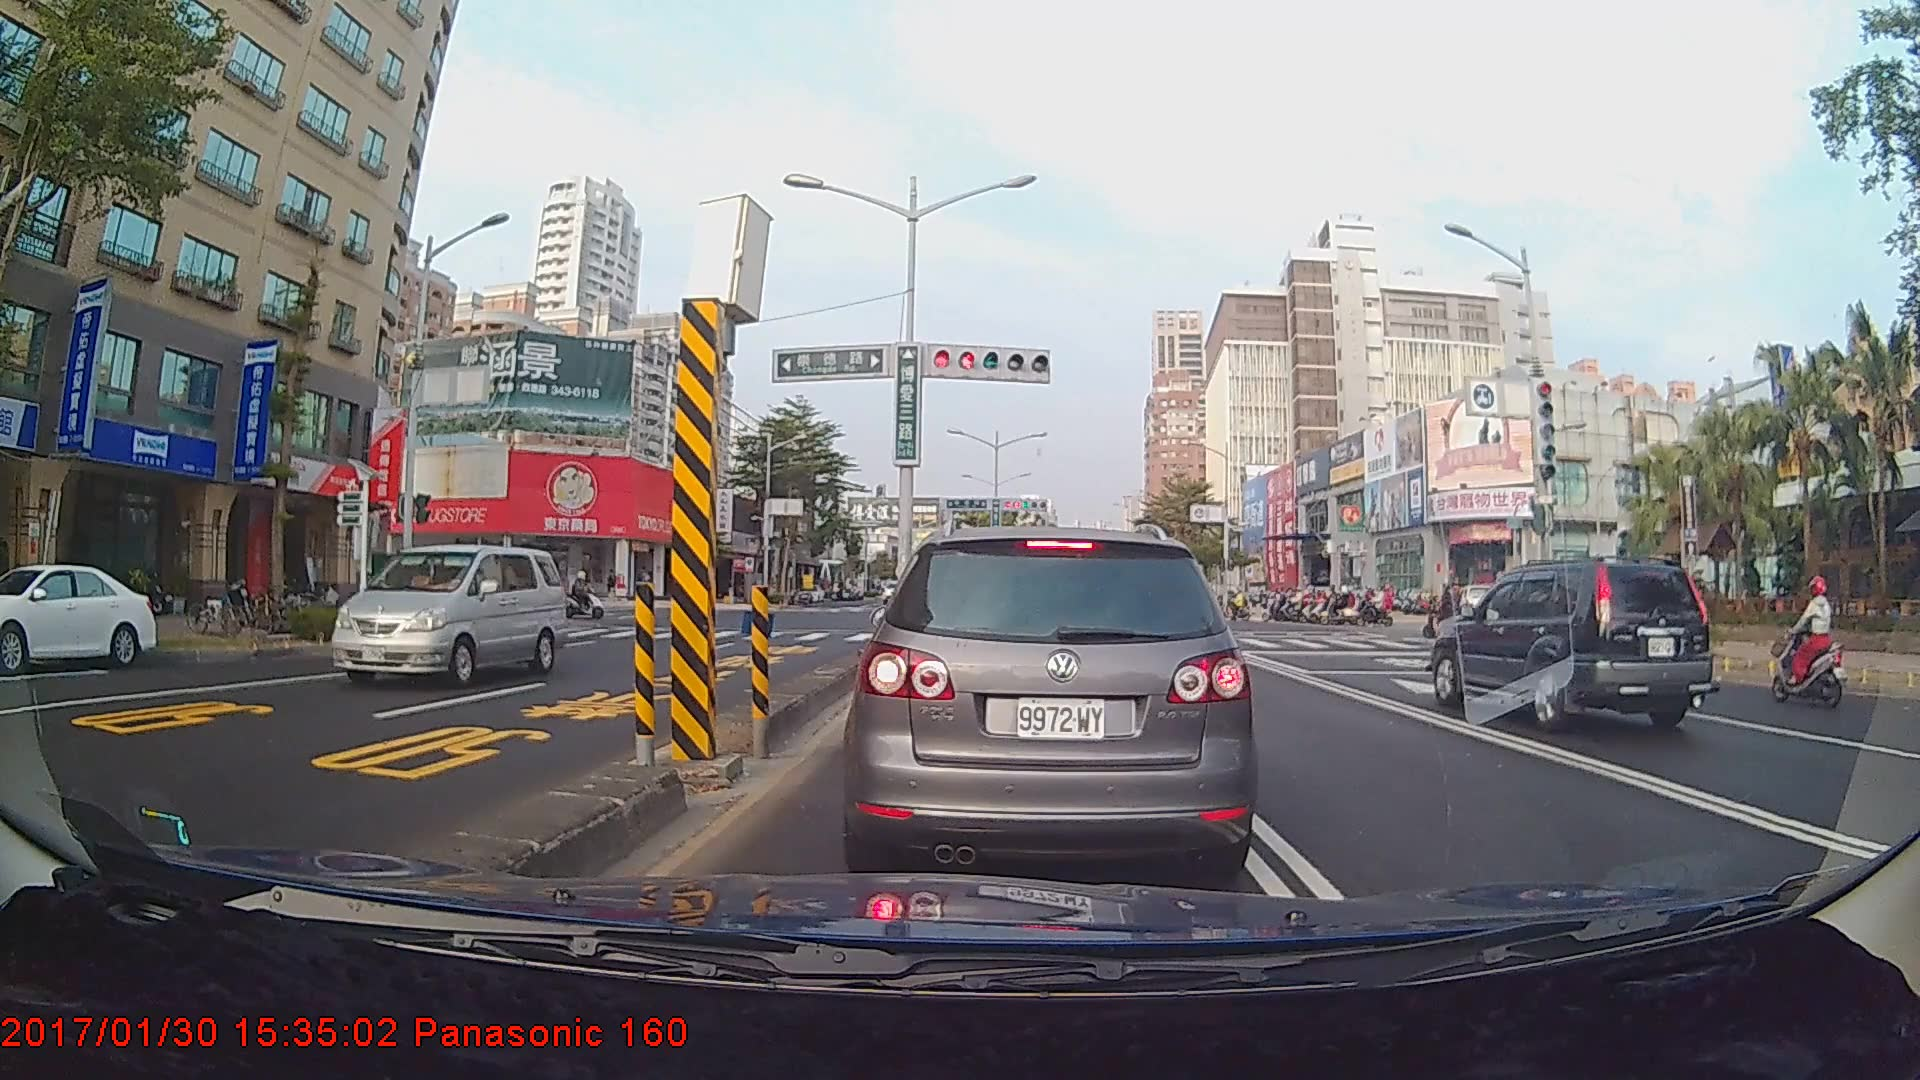pedestrian: (447, 563, 467, 620)
rider: (1771, 566, 1856, 712), (1435, 584, 1473, 640)
vehicle: (851, 521, 1252, 881), (1421, 552, 1717, 740), (321, 541, 562, 689), (0, 562, 158, 675)
